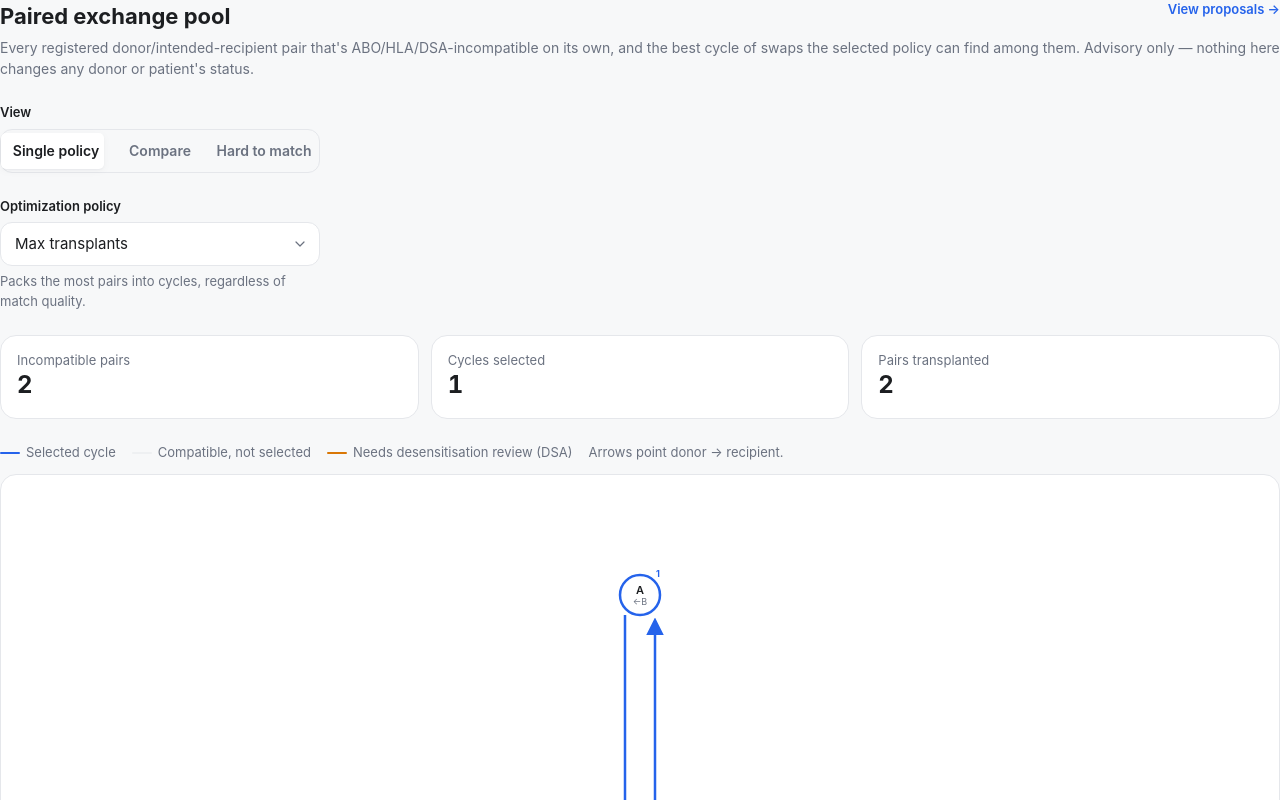
ExchangePoolPage › switches to the cross-policy comparison view and shows which policies agree on each cycle
The width and height of the screenshot is (1280, 800).
Expected: the text "Incompatible pairs" is shown, [17, 352, 130, 368]
Click the radio button labelled "Compare".
click(160, 150)  # box [108, 132, 212, 168]
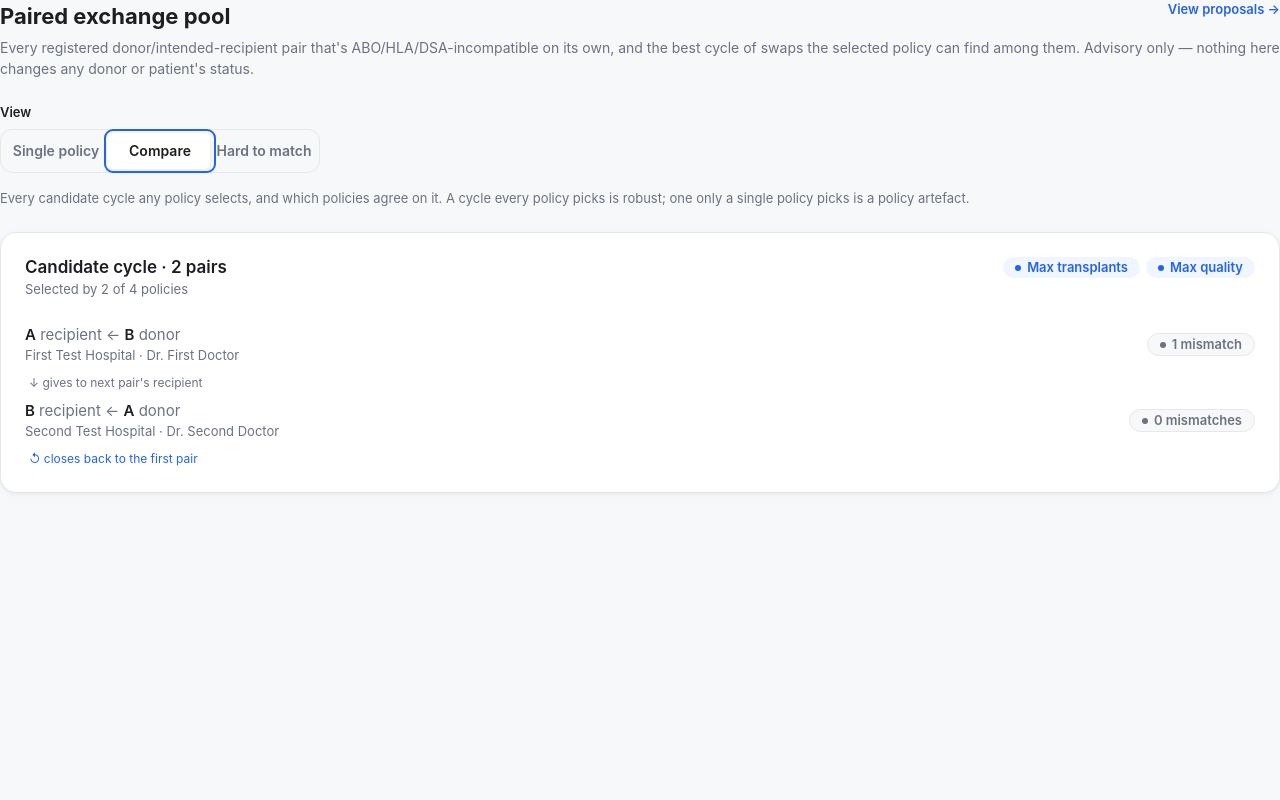
Expected: the heading "Candidate cycle · 2 pairs" is shown, [25, 257, 227, 278]
Expected: the text "Selected by 2 of 4 policies" is shown, [25, 281, 188, 297]
Expected: the text "Max transplants" is shown, [1003, 257, 1140, 278]
